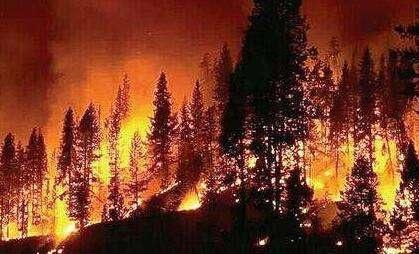fire: (297, 103, 407, 222), (94, 87, 166, 184), (0, 174, 106, 236), (169, 177, 211, 210)
